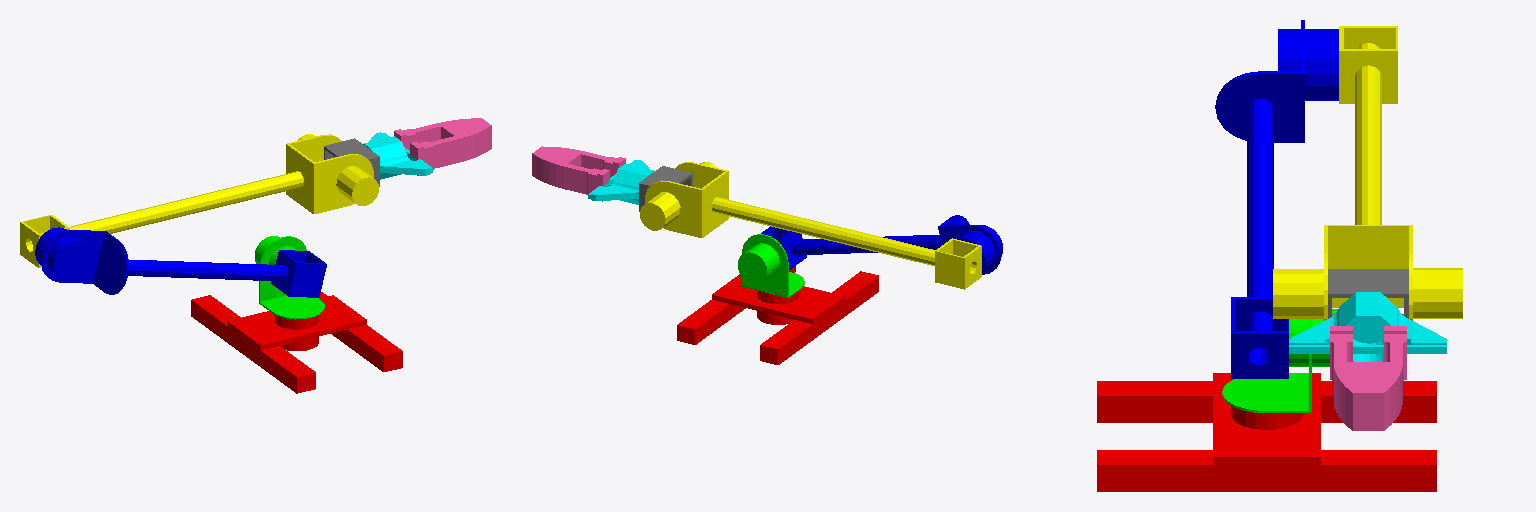
robot.urdf — rover_arm_urdf:
<?xml version="1.0" encoding="utf-8"?>
<!-- This URDF was automatically created by SolidWorks to URDF Exporter! Originally created by Stephen Brawner (brawner@gmail.com) 
     Commit Version: 1.6.0-4-g7f85cfe  Build Version: 1.6.7995.38578
     For more information, please see http://wiki.ros.org/sw_urdf_exporter -->
<robot name="rover_arm_urdf">

  <!-- Dummy link representing the Gazebo/RViz world -->
  <link name="world"/>

  <!-- Fixed joint locking the base_link to the world at the origin -->
  <joint name="fixed_to_ground" type="fixed">
    <parent link="world"/>
    <child link="base_link"/>
    <origin xyz="0 0 0" rpy="0 0 0"/>
  </joint>

  <link name="base_link">
    <inertial>
      <origin xyz="0 0 0.023286" rpy="0 0 0" />
      <mass value="1.7" />
      <inertia ixx="0.012861" ixy="7.8878E-18" ixz="8.6172E-20" iyy="0.0097973" iyz="-3.0639E-18" izz="0.021946" />
    </inertial>
    <visual>
      <origin xyz="0 0 0" rpy="0 0 0" />
      <geometry>
        <mesh filename="package://rover_arm_urdf/meshes/base_link.STL" />
      </geometry>
      <material name="red">
        <color rgba="1.0 0.0 0.0 1.0" />
      </material>
    </visual>
    <collision>
      <origin xyz="0 0 0" rpy="0 0 0" />
      <geometry>
        <mesh filename="package://rover_arm_urdf/meshes/base_link.STL" />
      </geometry>
    </collision>
  </link>

  <link name="link_1_shoulder">
    <inertial>
      <origin xyz="-2.2204E-16 0.054564 0.087166" rpy="0 0 0" />
      <mass value="0.85" />
      <inertia ixx="0.00040116" ixy="2.8121E-20" ixz="1.4151E-20" iyy="0.00030799" iyz="-9.3996E-05" izz="0.00030068" />
    </inertial>
    <visual>
      <origin xyz="0 0 0" rpy="0 0 0" />
      <geometry>
        <mesh filename="package://rover_arm_urdf/meshes/link_1_shoulder.STL" />
      </geometry>
      <material name="green">
        <color rgba="0.0 1.0 0.0 1.0" />
      </material>
    </visual>
    <collision>
      <origin xyz="0 0 0" rpy="0 0 0" />
      <geometry>
        <mesh filename="package://rover_arm_urdf/meshes/link_1_shoulder.STL" />
      </geometry>
    </collision>
  </link>

  <joint name="joint_1_base_roll" type="revolute">
    <origin xyz="0 0 0.043" rpy="0 0 0" />
    <parent link="base_link" />
    <child link="link_1_shoulder" />
    <axis xyz="0 0 -1" />
    <limit lower="-1.57" upper="1.57" effort="30" velocity="7.33" />
  </joint>

  <link name="link_2_upper_arm">
    <inertial>
      <origin xyz="0 0.035803 0.37386" rpy="0 0 0" />
      <mass value="1.25" />
      <inertia ixx="0.016635" ixy="2.513E-18" ixz="1.5138E-17" iyy="0.016301" iyz="-0.0020422" izz="0.00079791" />
    </inertial>
    <visual>
      <origin xyz="0 0 0" rpy="0 0 0" />
      <geometry>
        <mesh filename="package://rover_arm_urdf/meshes/link_2_upper_arm.STL" />
      </geometry>
      <material name="blue">
        <color rgba="0.0 0.0 1.0 1.0" />
      </material>
    </visual>
    <collision>
      <origin xyz="0 0 0" rpy="0 0 0" />
      <geometry>
        <mesh filename="package://rover_arm_urdf/meshes/link_2_upper_arm.STL" />
      </geometry>
    </collision>
  </link>

  <joint name="joint_2_shoulder_pitch" type="revolute">
    <origin xyz="0 -0.0075 0.095" rpy="0 -1.309 0" />
    <parent link="link_1_shoulder" />
    <child link="link_2_upper_arm" />
    <axis xyz="0 1 0" />
    <limit lower="0" upper="2.88" effort="30" velocity="7.33" />
  </joint>

  <link name="link_3_forearm">
    <inertial>
      <origin xyz="2.2204E-16 -0.00051512 0.47582" rpy="0 0 0" />
      <mass value="1.1" />
      <inertia ixx="0.029803" ixy="-1.0889E-17" ixz="-2.7175E-18" iyy="0.027869" iyz="-0.00014799" izz="0.0023647" />
    </inertial>
    <visual>
      <origin xyz="0 0 0" rpy="0 0 0" />
      <geometry>
        <mesh filename="package://rover_arm_urdf/meshes/link_3_forearm.STL" />
      </geometry>
      <material name="yellow">
        <color rgba="1.0 1.0 0.0 1.0" />
      </material>
    </visual>
    <collision>
      <origin xyz="0 0 0" rpy="0 0 0" />
      <geometry>
        <mesh filename="package://rover_arm_urdf/meshes/link_3_forearm.STL" />
      </geometry>
    </collision>
  </link>

  <joint name="joint_3_elbow_pitch" type="revolute">
    <origin xyz="0 0.1205 0.4725" rpy="3.1416 0.2618 3.1416" />
    <parent link="link_2_upper_arm" />
    <child link="link_3_forearm" />
    <axis xyz="0 1 0" />
    <limit lower="-2.88" upper="0" effort="30" velocity="7.33" />
  </joint>

  <link name="link_4_wrist_pitch_block">
    <inertial>
      <origin xyz="3.9968E-15 -3.5527E-15 0.0325" rpy="0 0 0" />
      <mass value="0.15" />
      <inertia ixx="0.0001303" ixy="-1.2395E-19" ixz="-8.7722E-20" iyy="8.3173E-05" iyz="2.1471E-19" izz="0.00014939" />
    </inertial>
    <visual>
      <origin xyz="0 0 0" rpy="0 0 0" />
      <geometry>
        <mesh filename="package://rover_arm_urdf/meshes/link_4_wrist_pitch_block.STL" />
      </geometry>
      <material name="gray">
        <color rgba="0.5 0.5 0.5 1.0" />
      </material>
    </visual>
    <collision>
      <origin xyz="0 0 0" rpy="0 0 0" />
      <geometry>
        <mesh filename="package://rover_arm_urdf/meshes/link_4_wrist_pitch_block.STL" />
      </geometry>
    </collision>
  </link>

  <joint name="joint_4_wrist_pitch" type="revolute">
    <origin xyz="0 0 0.6025" rpy="0 0 0" />
    <parent link="link_3_forearm" />
    <child link="link_4_wrist_pitch_block" />
    <axis xyz="0 1 0" />
    <limit lower="-1.57" upper="1.57" effort="8.5" velocity="9" />
  </joint>

  <link name="link_5_gripper_base">
    <inertial>
      <origin xyz="5.107E-15 -3.4417E-15 0.0088428" rpy="0 0 0" />
      <mass value="0.5" />
      <inertia ixx="0.00033407" ixy="1.4235E-10" ixz="-3.7651E-20" iyy="0.00011758" iyz="-3.2712E-19" izz="0.00027803" />
    </inertial>
    <visual>
      <origin xyz="0 0 0" rpy="0 0 0" />
      <geometry>
        <mesh filename="package://rover_arm_urdf/meshes/link_5_gripper_base.STL" />
      </geometry>
      <material name="cyan">
        <color rgba="0.0 1.0 1.0 1.0" />
      </material>
    </visual>
    <collision>
      <origin xyz="0 0 0" rpy="0 0 0" />
      <geometry>
        <mesh filename="package://rover_arm_urdf/meshes/link_5_gripper_base.STL" />
      </geometry>
    </collision>
  </link>

  <joint name="joint_5_wrist_roll" type="revolute">
    <origin xyz="0 0 0.09675" rpy="0 0 0" />
    <parent link="link_4_wrist_pitch_block" />
    <child link="link_5_gripper_base" />
    <axis xyz="0 0 1" />
    <limit lower="-3.142" upper="3.142" effort="8.5" velocity="9" />
  </joint>

  <link name="link_6_left_jaw">
    <inertial>
      <origin xyz="4.4409E-16 0.0052044 0.082559" rpy="0 0 0" />
      <mass value="0.1" />
      <inertia ixx="0.0004917" ixy="6.5314E-20" ixz="5.4773E-19" iyy="0.00050517" iyz="6.4273E-05" izz="6.3079E-05" />
    </inertial>
    <visual>
      <origin xyz="0 0 0" rpy="0 0 0" />
      <geometry>
        <mesh filename="package://rover_arm_urdf/meshes/link_6_left_jaw.STL" />
      </geometry>
      <material name="pink">
        <color rgba="1.0 0.4 0.7 1.0" />
      </material>
    </visual>
    <collision>
      <origin xyz="0 0 0" rpy="0 0 0" />
      <geometry>
        <mesh filename="package://rover_arm_urdf/meshes/link_6_left_jaw.STL" />
      </geometry>
    </collision>
  </link>

  <joint name="joint_6_left_jaw" type="prismatic">
    <origin xyz="0 0.016961 0.05375" rpy="0 0 0" />
    <parent link="link_5_gripper_base" />
    <child link="link_6_left_jaw" />
    <axis xyz="0 1 0" />
    <limit lower="0" upper="0.045" effort="50" velocity="0.1" />
  </joint>

  <link name="link_7_right_jaw">
    <inertial>
      <origin xyz="2.8866E-15 -0.0052044 0.082559" rpy="0 0 0" />
      <mass value="0.1" />
      <inertia ixx="0.0004917" ixy="5.1877E-20" ixz="-5.0038E-19" iyy="0.00050517" iyz="-6.4273E-05" izz="6.3079E-05" />
    </inertial>
    <visual>
      <origin xyz="0 0 0" rpy="0 0 0" />
      <geometry>
        <mesh filename="package://rover_arm_urdf/meshes/link_7_right_jaw.STL" />
      </geometry>
      <material name="pink">
        <color rgba="1.0 0.4 0.7 1.0" />
      </material>
    </visual>
    <collision>
      <origin xyz="0 0 0" rpy="0 0 0" />
      <geometry>
        <mesh filename="package://rover_arm_urdf/meshes/link_7_right_jaw.STL" />
      </geometry>
    </collision>
  </link>

  <joint name="joint_7_right_jaw" type="prismatic">
    <origin xyz="0 -0.016961 0.05375" rpy="0 0 0" />
    <parent link="link_5_gripper_base" />
    <child link="link_7_right_jaw" />
    <axis xyz="0 1 0" />
    <limit lower="0" upper="0.045" effort="50" velocity="0.1" />
    <mimic joint="joint_6_left_jaw" multiplier="-1" offset="0" />
  </joint>

  <ros2_control name="RoverArmSystem" type="system">
    <hardware>
      <plugin>gz_ros2_control/GazeboSimSystem</plugin>
    </hardware>
    <joint name="joint_1_base_roll">
      <command_interface name="position"/>
      <state_interface name="position"/>
      <state_interface name="velocity"/>
    </joint>
    <joint name="joint_2_shoulder_pitch">
      <command_interface name="position"/>
      <state_interface name="position"/>
      <state_interface name="velocity"/>
    </joint>
    <joint name="joint_3_elbow_pitch">
      <command_interface name="position"/>
      <state_interface name="position"/>
      <state_interface name="velocity"/>
    </joint>
    <joint name="joint_4_wrist_pitch">
      <command_interface name="position"/>
      <state_interface name="position"/>
      <state_interface name="velocity"/>
    </joint>
    <joint name="joint_5_wrist_roll">
      <command_interface name="position"/>
      <state_interface name="position"/>
      <state_interface name="velocity"/>
    </joint>
    <joint name="joint_6_left_jaw">
      <command_interface name="position"/>
      <state_interface name="position"/>
      <state_interface name="velocity"/>
    </joint>
  </ros2_control>

  <gazebo>
    <plugin filename="gz_ros2_control-system" name="gz_ros2_control::GazeboSimROS2ControlPlugin">
      <parameters>__ROS2_CONTROLLERS_YAML_PATH__</parameters>
    </plugin>
  </gazebo>

</robot>

--- Facts derived from the render (not from the file) ---
Views: 3 orthographic renders of the robot side by side, from view 1: azimuth 30°, elevation 25°; view 2: azimuth 150°, elevation 25°; view 3: azimuth 270°, elevation 25°.
Model rover_arm_urdf with 9 links and 8 joints (5 revolute, 2 prismatic, 1 fixed), rooted at world, posed every joint at zero.
Visible links, largest first — view 1: link_3_forearm, link_2_upper_arm, base_link, link_1_shoulder, link_7_right_jaw, link_5_gripper_base, link_6_left_jaw, link_4_wrist_pitch_block; view 2: link_3_forearm, base_link, link_2_upper_arm, link_1_shoulder, link_6_left_jaw, link_5_gripper_base, link_7_right_jaw, link_4_wrist_pitch_block; view 3: base_link, link_2_upper_arm, link_3_forearm, link_5_gripper_base, link_1_shoulder, link_6_left_jaw, link_7_right_jaw, link_4_wrist_pitch_block.
Boxes of the visible links, left/top/right/bottom form: link_3_forearm: left=20, top=134, right=378, bottom=267; link_2_upper_arm: left=35, top=227, right=326, bottom=297; base_link: left=191, top=292, right=402, bottom=393; link_1_shoulder: left=255, top=236, right=324, bottom=319; link_7_right_jaw: left=410, top=122, right=491, bottom=175; link_5_gripper_base: left=363, top=132, right=432, bottom=179; link_6_left_jaw: left=394, top=118, right=485, bottom=150; link_4_wrist_pitch_block: left=324, top=138, right=379, bottom=186; link_3_forearm: left=640, top=162, right=981, bottom=289; base_link: left=677, top=266, right=878, bottom=364; link_2_upper_arm: left=761, top=215, right=1002, bottom=274; link_1_shoulder: left=738, top=234, right=804, bottom=297; link_6_left_jaw: left=532, top=150, right=609, bottom=201; link_5_gripper_base: left=588, top=160, right=654, bottom=204; link_7_right_jaw: left=538, top=146, right=625, bottom=185; link_4_wrist_pitch_block: left=639, top=166, right=692, bottom=211; base_link: left=1097, top=373, right=1436, bottom=491; link_2_upper_arm: left=1215, top=20, right=1338, bottom=378; link_3_forearm: left=1273, top=26, right=1462, bottom=320; link_5_gripper_base: left=1289, top=292, right=1446, bottom=361; link_1_shoulder: left=1222, top=309, right=1337, bottom=412; link_6_left_jaw: left=1368, top=326, right=1406, bottom=430; link_7_right_jaw: left=1330, top=326, right=1367, bottom=430; link_4_wrist_pitch_block: left=1328, top=269, right=1408, bottom=318.
Bounding box of the posed robot: 0.9643 × 0.409 × 0.3103 m (x, y, z).
8 mesh visuals loaded from 8 distinct referenced files (8 binary STL).
